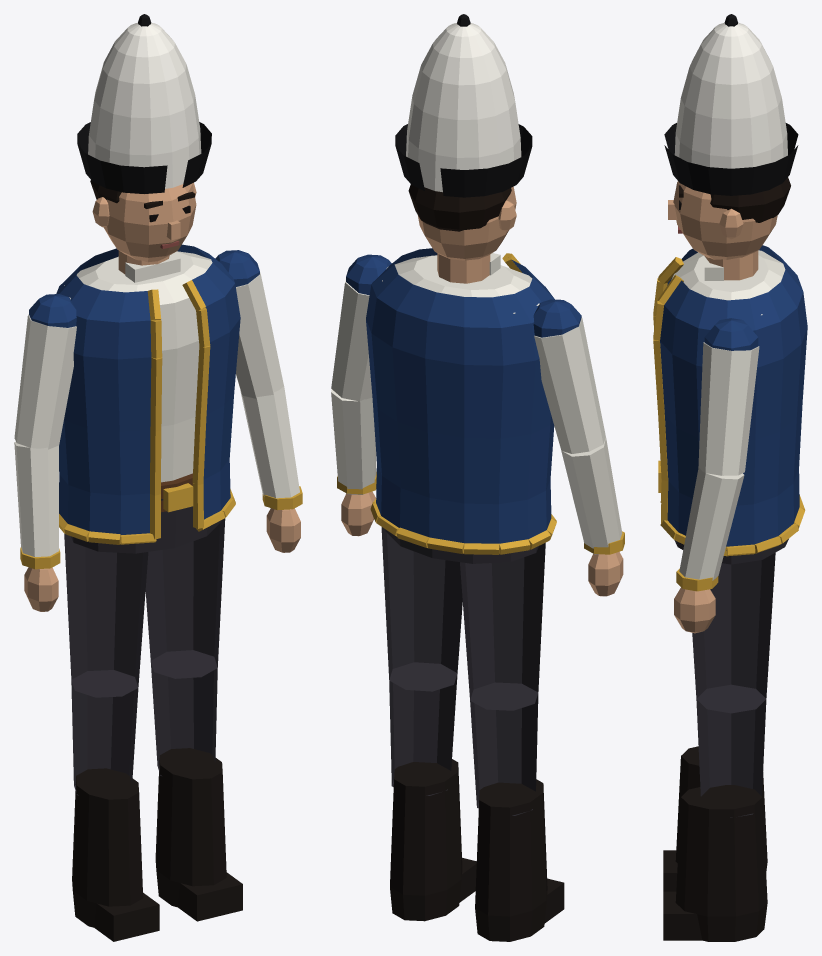
File: Aibek.obj
The picture shows the model from 3 angles, left to right: view 1: azimuth 30°, elevation 25°; view 2: azimuth 150°, elevation 25°; view 3: azimuth 270°, elevation 25°; orthographic projection.
Visible parts, largest first — view 1: Aibek; view 2: Aibek; view 3: Aibek.
Part boxes in pixels (left/top/right/bottom): Aibek: left=14, top=14, right=302, bottom=941; Aibek: left=331, top=14, right=624, bottom=941; Aibek: left=653, top=14, right=807, bottom=941.
Size of the model in its own units: 0.666 by 2.03 by 0.3176.
